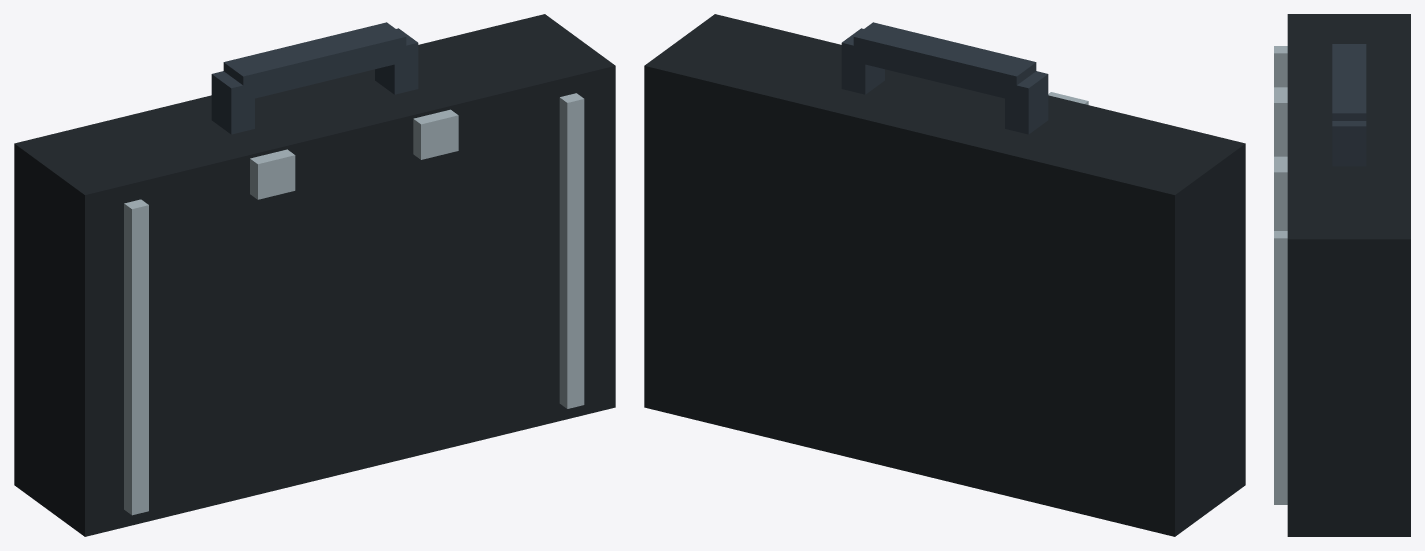
Rendered from briefcase.glb.
3 views of the same model, side by side, from view 1: azimuth 30°, elevation 25°; view 2: azimuth 150°, elevation 25°; view 3: azimuth 270°, elevation 25° (orthographic). The views are drawn at different scales.
Visible parts, largest first — view 1: briefcase; view 2: briefcase; view 3: briefcase.
Part boxes in pixels (x1,y1,x2,y2): briefcase: (14,14,615,536); briefcase: (644,14,1245,536); briefcase: (1274,14,1410,536).
Size of the model in its own units: 0.78 by 0.5575 by 0.2.
